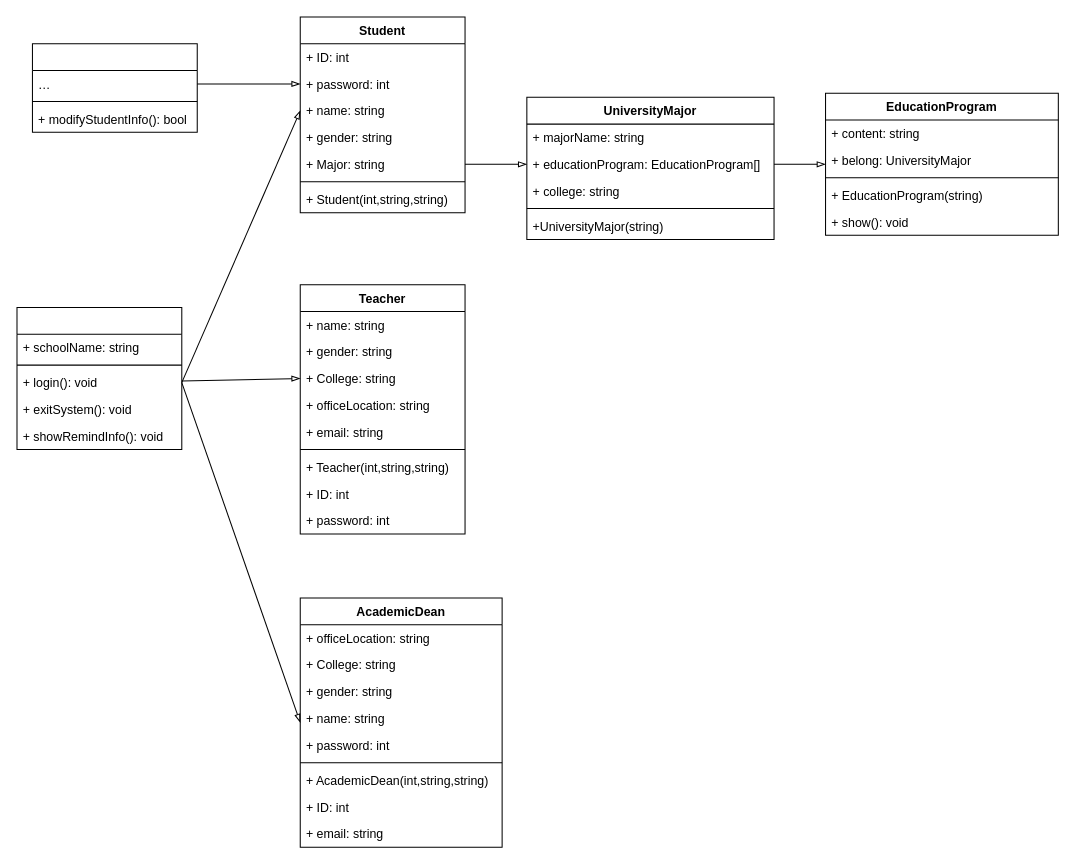
Some shapes in this 1075 by 864 pixel diagram are drawn without their labels. The box of each missing label's shape, as (x1, y1, x2, y2) in pixels:
EducationSystem: (16, 306, 182, 450)
StudentInfoHander: (31, 43, 197, 132)
